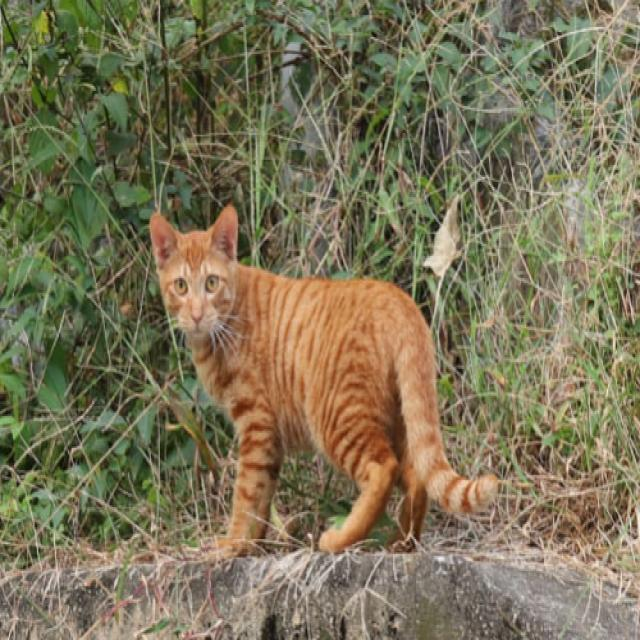cat: (78, 140, 528, 611)
